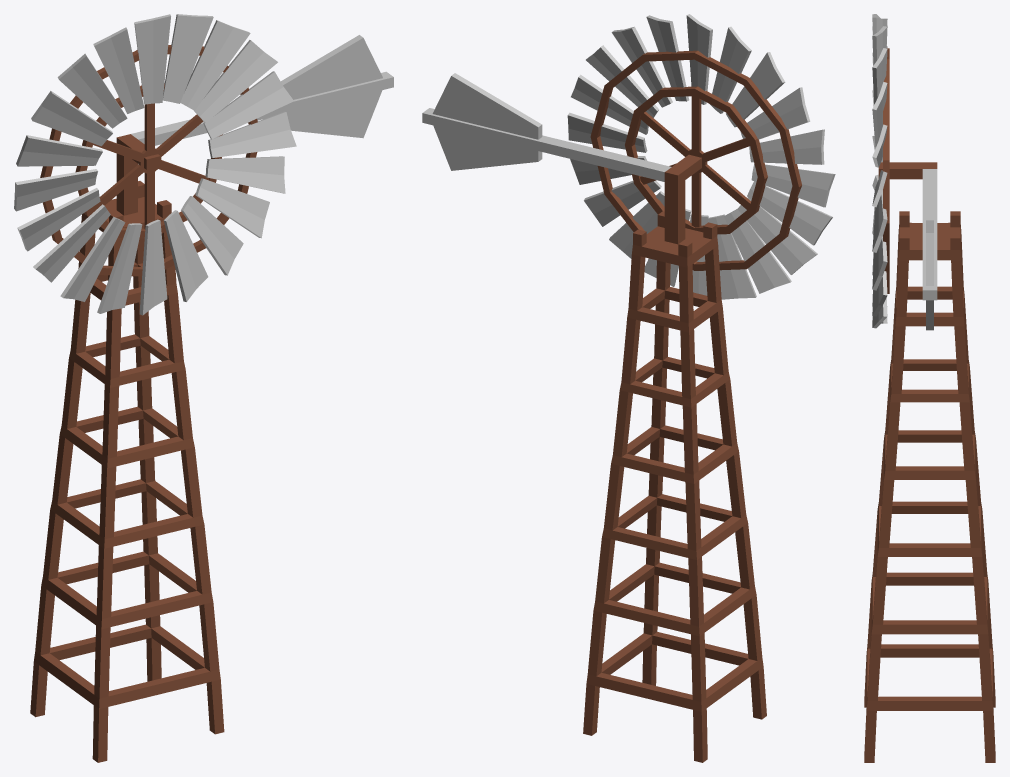
Rendered from windmill_modified.glb.
The picture shows the model from 3 angles, left to right: view 1: azimuth 30°, elevation 25°; view 2: azimuth 150°, elevation 25°; view 3: azimuth 270°, elevation 25°; orthographic projection. The views are drawn at different scales.
Visible parts, largest first — view 1: Windmill_Blades_Cube.021, Windmill_Cube.020, Windmill_Cube.001; view 2: Windmill_Cube.020, Windmill_Blades_Cube.021, Windmill_Cube.001; view 3: Windmill_Cube.020, Windmill_Blades_Cube.021, Windmill_Cube.001.
Part boxes in pixels (box(x1,y1,x2,y2)): Windmill_Blades_Cube.021: box(14, 14, 296, 315); Windmill_Cube.020: box(30, 181, 224, 762); Windmill_Cube.001: box(116, 35, 393, 215); Windmill_Cube.020: box(583, 211, 766, 762); Windmill_Blades_Cube.021: box(567, 14, 835, 299); Windmill_Cube.001: box(422, 73, 701, 244); Windmill_Cube.020: box(864, 211, 995, 762); Windmill_Blades_Cube.021: box(872, 14, 889, 328); Windmill_Cube.001: box(878, 162, 937, 330).
Size of the model in its own units: 6.51 by 11.2 by 1.9.
